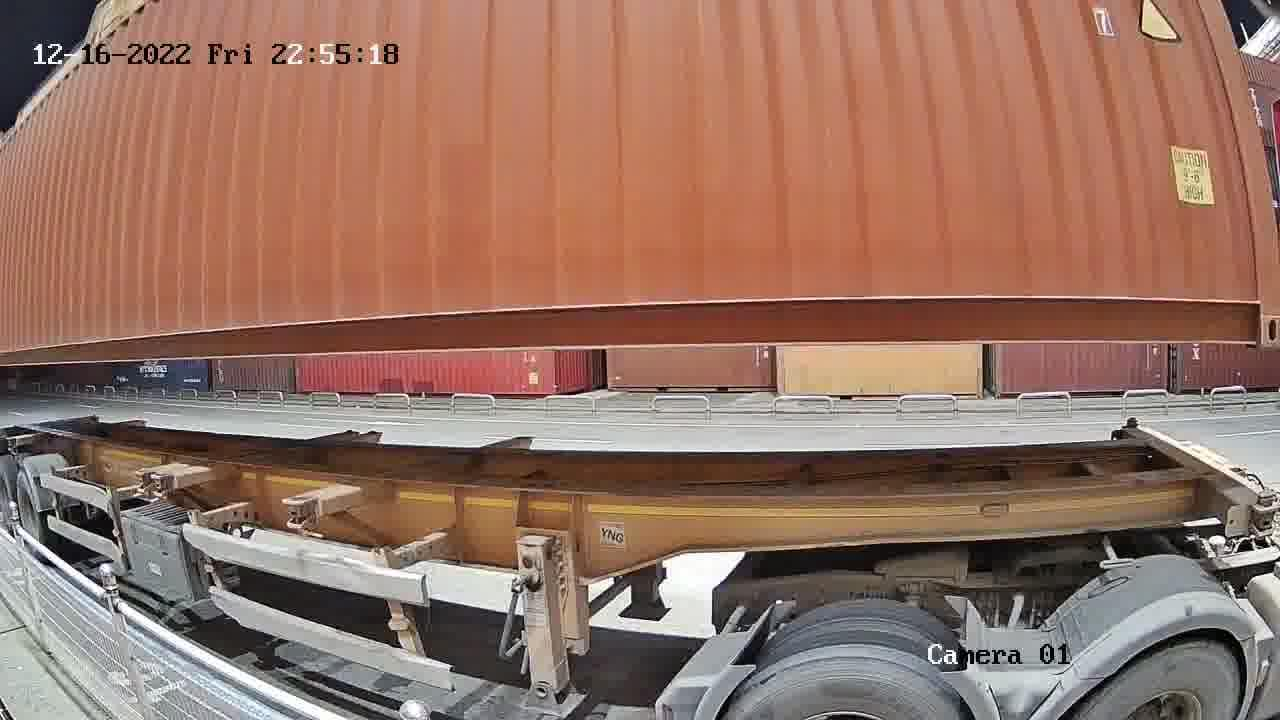Chassis: (1123, 423, 1279, 536)
Cone: (1248, 490, 1275, 534), (1121, 416, 1143, 433)
Hole_R: (1218, 262, 1279, 343)
Tire: (720, 656, 967, 715), (1071, 645, 1242, 717)
